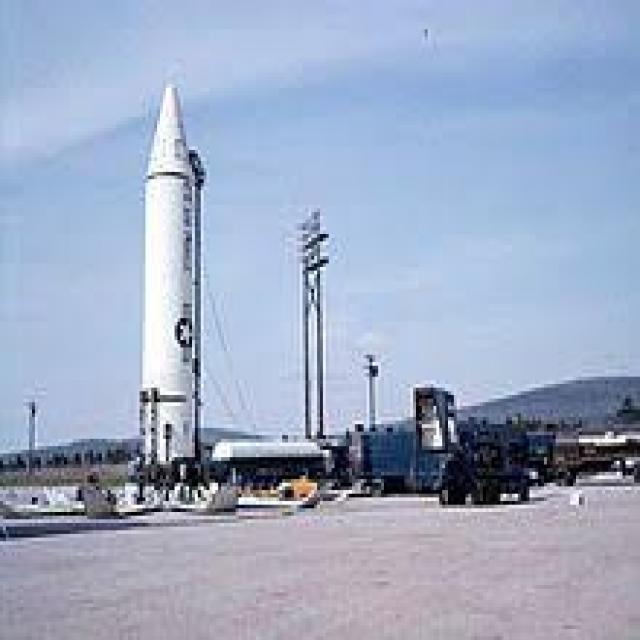Missile: (138, 80, 201, 469)
